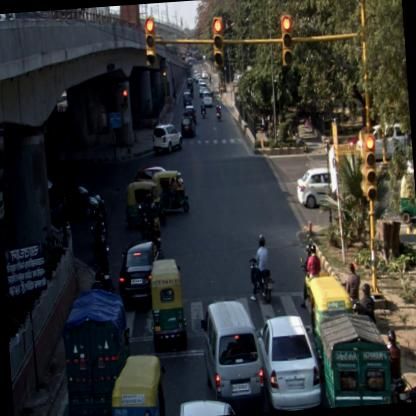car: (198, 300, 266, 404), (256, 314, 322, 412), (116, 238, 166, 309), (297, 165, 332, 210), (169, 399, 243, 415), (150, 123, 183, 155), (180, 115, 196, 137), (205, 90, 214, 107), (183, 92, 192, 106), (186, 78, 194, 90)
motorcycle: (245, 234, 276, 304), (295, 242, 324, 310), (385, 330, 408, 403), (91, 237, 113, 296), (215, 100, 221, 121), (199, 101, 206, 119)
truck: (59, 289, 133, 415), (316, 312, 392, 408)
